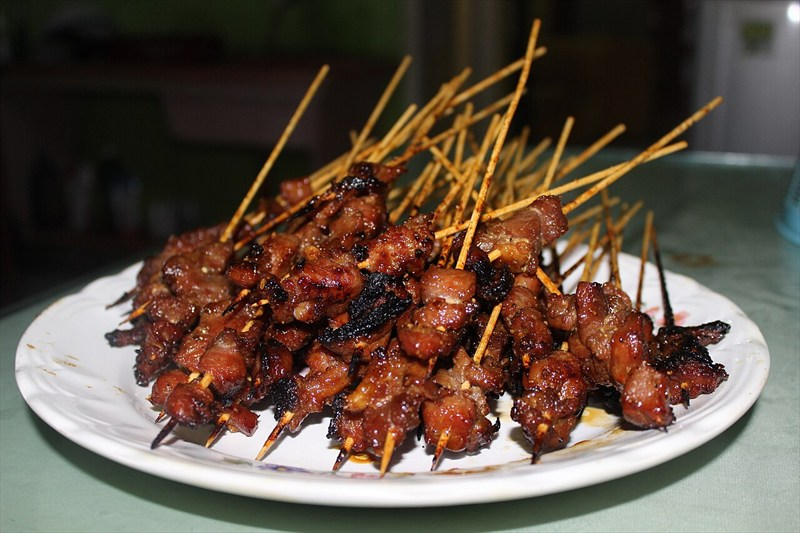Sate Ayam: (92, 97, 723, 507)
